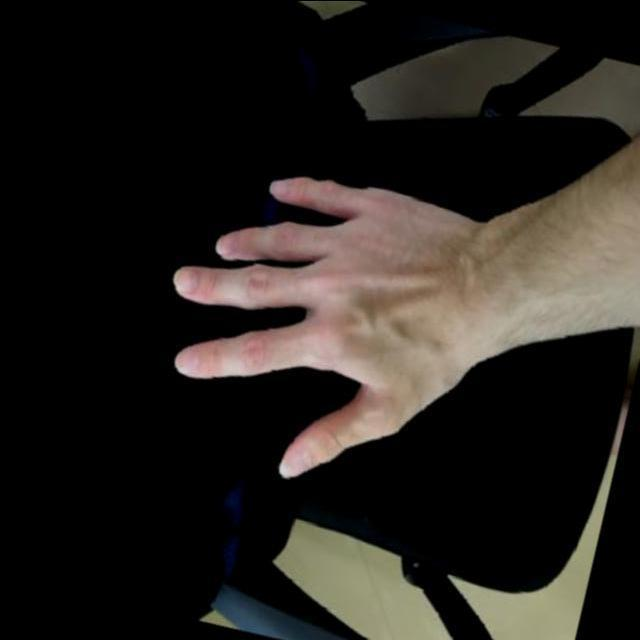hand: (122, 133, 521, 526)
